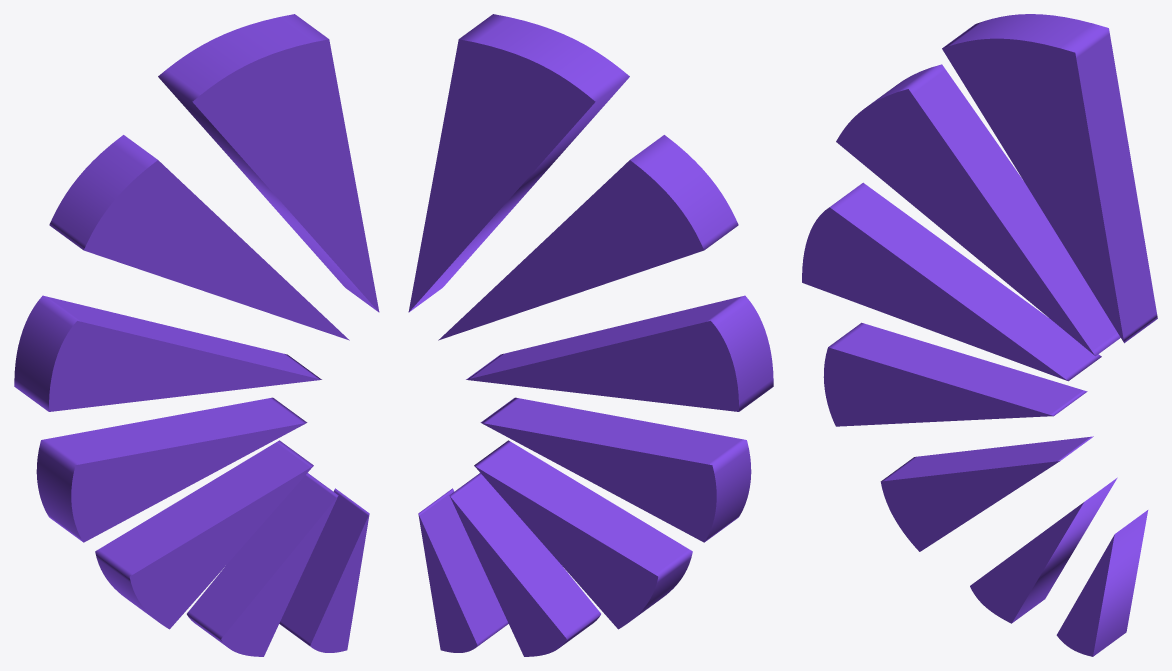
The picture shows the model from 3 angles, left to right: view 1: azimuth 30°, elevation 25°; view 2: azimuth 150°, elevation 25°; view 3: azimuth 330°, elevation 25°; orthographic projection. The views are drawn at different scales.
Visible parts, largest first — view 1: Curve.002, Curve.001, Curve, Curve.003, Curve.004, Curve.005, Curve.006; view 2: Curve.002, Curve.001, Curve, Curve.003, Curve.004, Curve.005, Curve.006; view 3: Curve.002, Curve.001, Curve, Curve.003, Curve.004, Curve.005, Curve.006.
Part boxes in pixels (left/top/right/bottom): Curve.002: left=158, top=14, right=379, bottom=312; Curve.001: left=49, top=135, right=349, bottom=340; Curve: left=14, top=295, right=321, bottom=411; Curve.003: left=36, top=397, right=307, bottom=542; Curve.004: left=95, top=440, right=313, bottom=629; Curve.005: left=187, top=473, right=338, bottom=656; Curve.006: left=279, top=488, right=369, bottom=652; Curve.002: left=408, top=14, right=629, bottom=312; Curve.001: left=438, top=135, right=738, bottom=340; Curve: left=466, top=295, right=773, bottom=411; Curve.003: left=480, top=397, right=751, bottom=542; Curve.004: left=474, top=440, right=692, bottom=629; Curve.005: left=449, top=473, right=600, bottom=656; Curve.006: left=418, top=488, right=508, bottom=652; Curve.002: left=942, top=14, right=1157, bottom=343; Curve.001: left=836, top=64, right=1120, bottom=356; Curve: left=802, top=182, right=1101, bottom=381; Curve.003: left=823, top=322, right=1087, bottom=426; Curve.004: left=880, top=436, right=1093, bottom=551; Curve.005: left=970, top=477, right=1117, bottom=623; Curve.006: left=1056, top=510, right=1148, bottom=656.
Size of the model in its own units: 0.166 by 0.2957 by 0.03.
